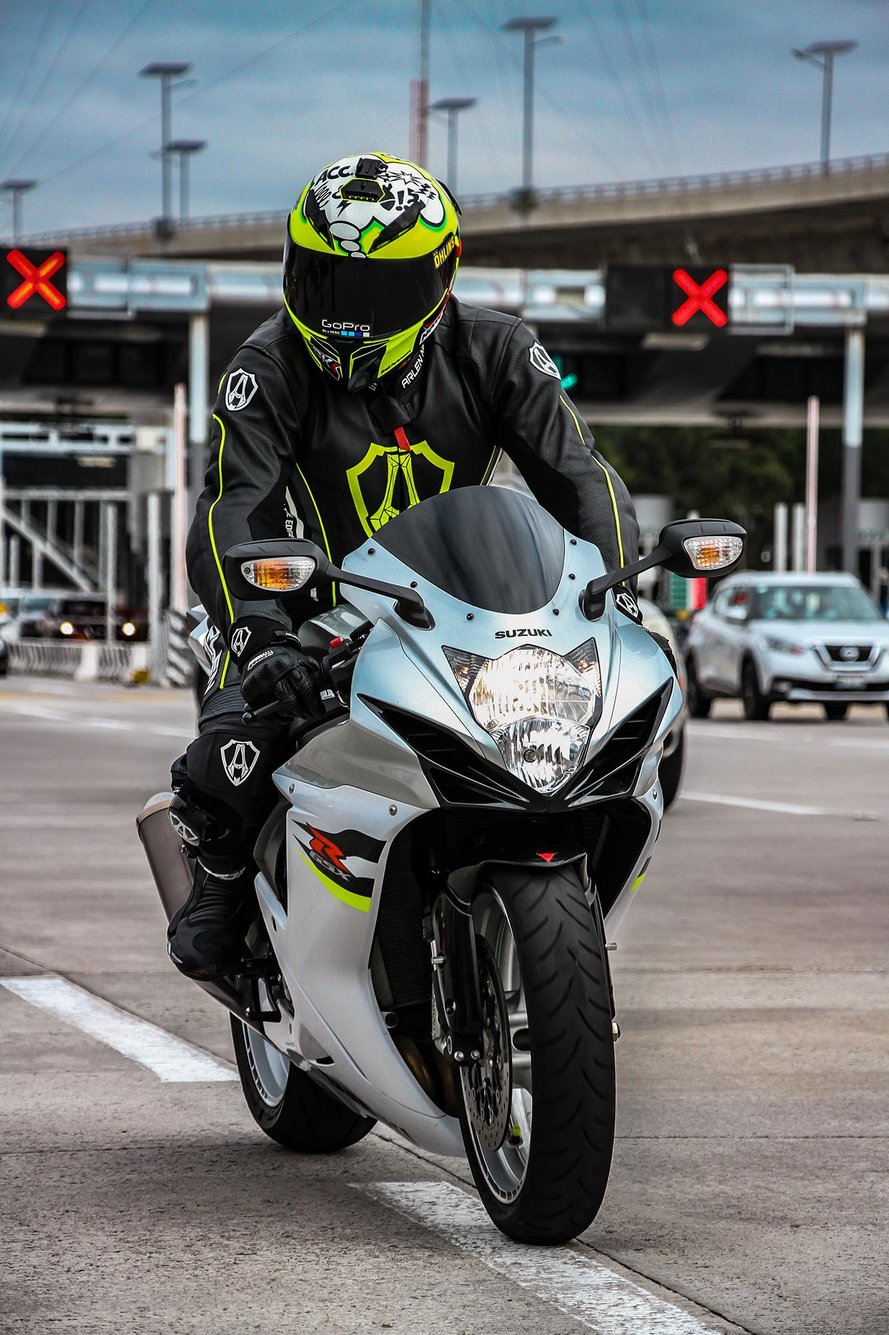helmet: (280, 151, 463, 395)
